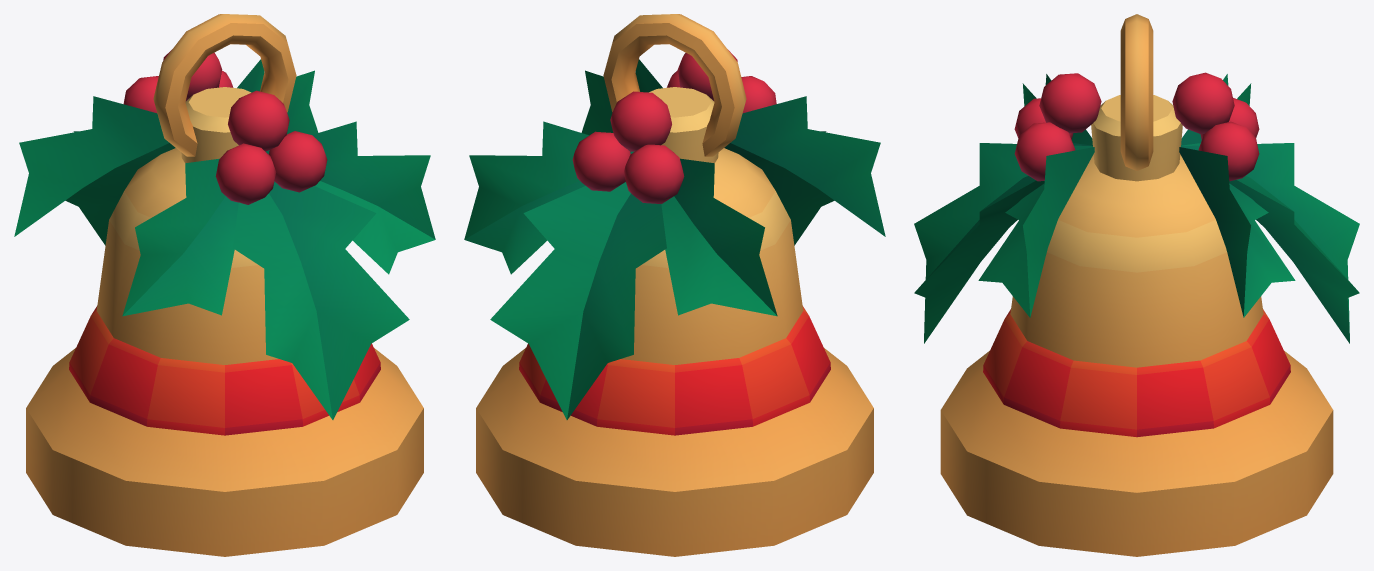
The model's file is bell_decorated.fbx.
3 renders of one model, left to right at view 1: azimuth 30°, elevation 25°; view 2: azimuth 150°, elevation 25°; view 3: azimuth 270°, elevation 25°, orthographic.
Parts seen in each view (by area): view 1: bell_decorated, bell_decorated_ring; view 2: bell_decorated, bell_decorated_ring; view 3: bell_decorated, bell_decorated_ring.
Boxes of the visible parts, x1=… form: bell_decorated: x1=14, y1=50, x2=435, y2=556; bell_decorated_ring: x1=153, y1=14, x2=296, y2=156; bell_decorated: x1=464, y1=50, x2=885, y2=556; bell_decorated_ring: x1=603, y1=14, x2=746, y2=156; bell_decorated: x1=914, y1=72, x2=1359, y2=556; bell_decorated_ring: x1=1120, y1=14, x2=1153, y2=170.
Size of the model in its own units: 0.806 by 1.1 by 0.9158.
